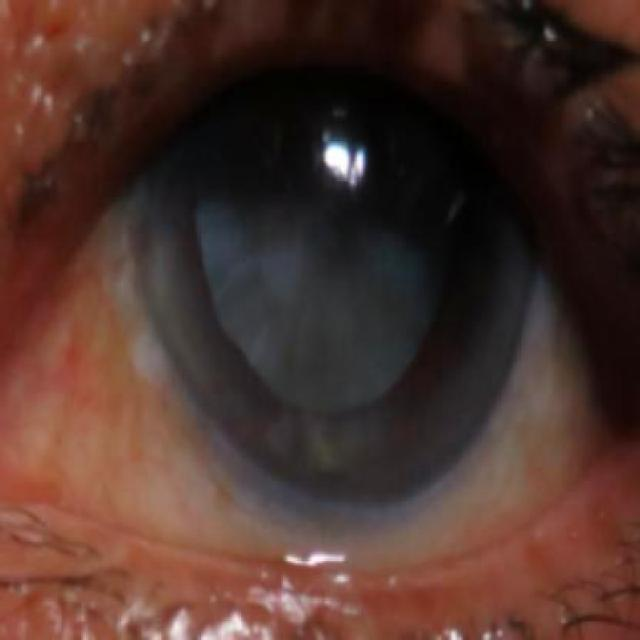Cataract: (126, 0, 552, 512)
